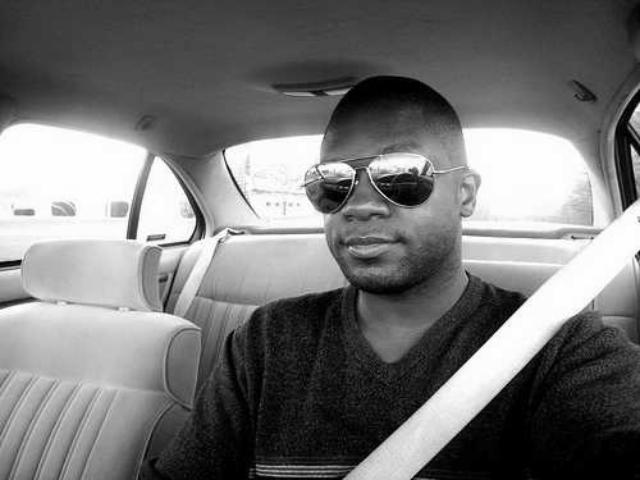Seatbelt: (336, 194, 640, 480)
